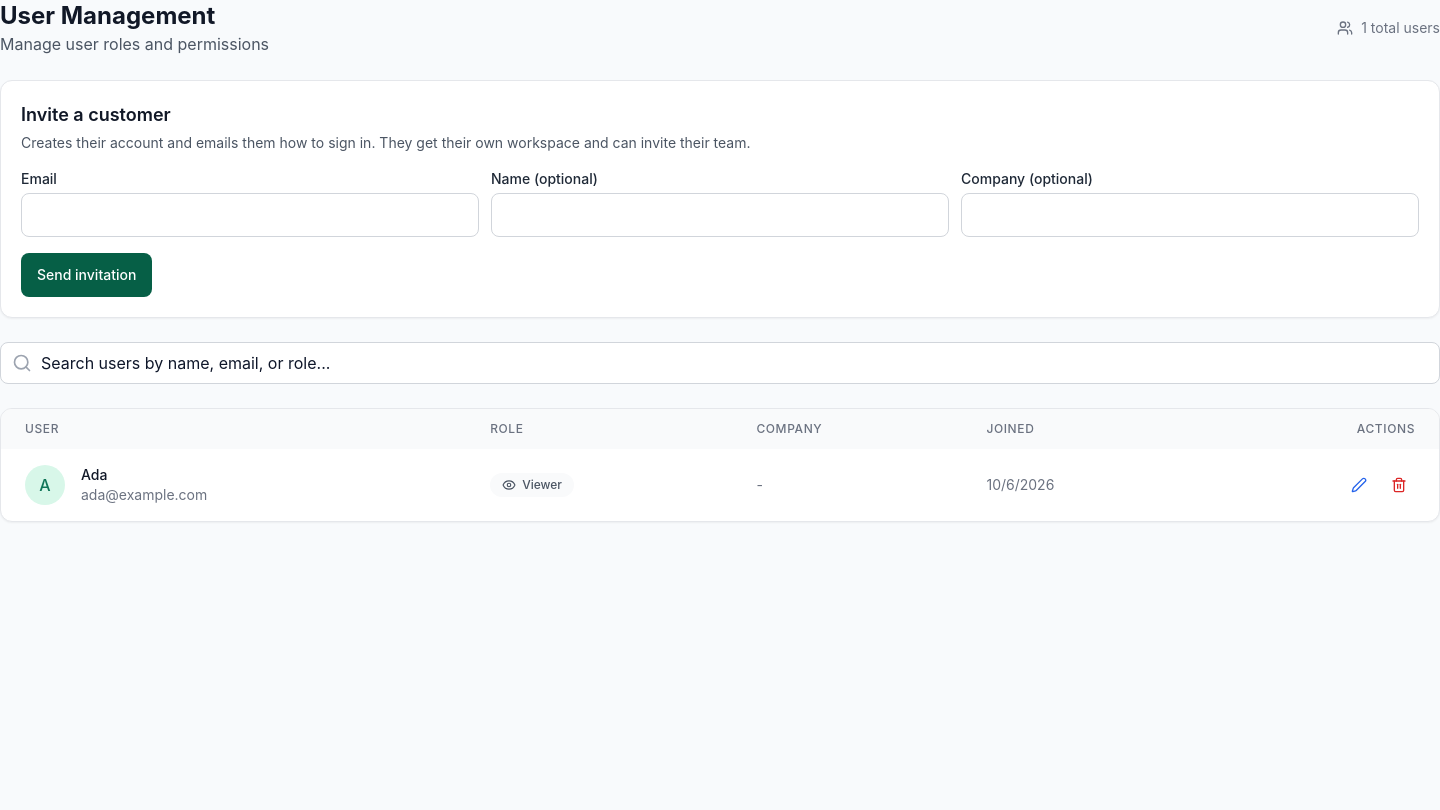
admin user management delete confirmation › keeps the dialog open when the delete fails
Click the button named "Delete user".
click(1399, 485)  # box [1383,469,1415,501]
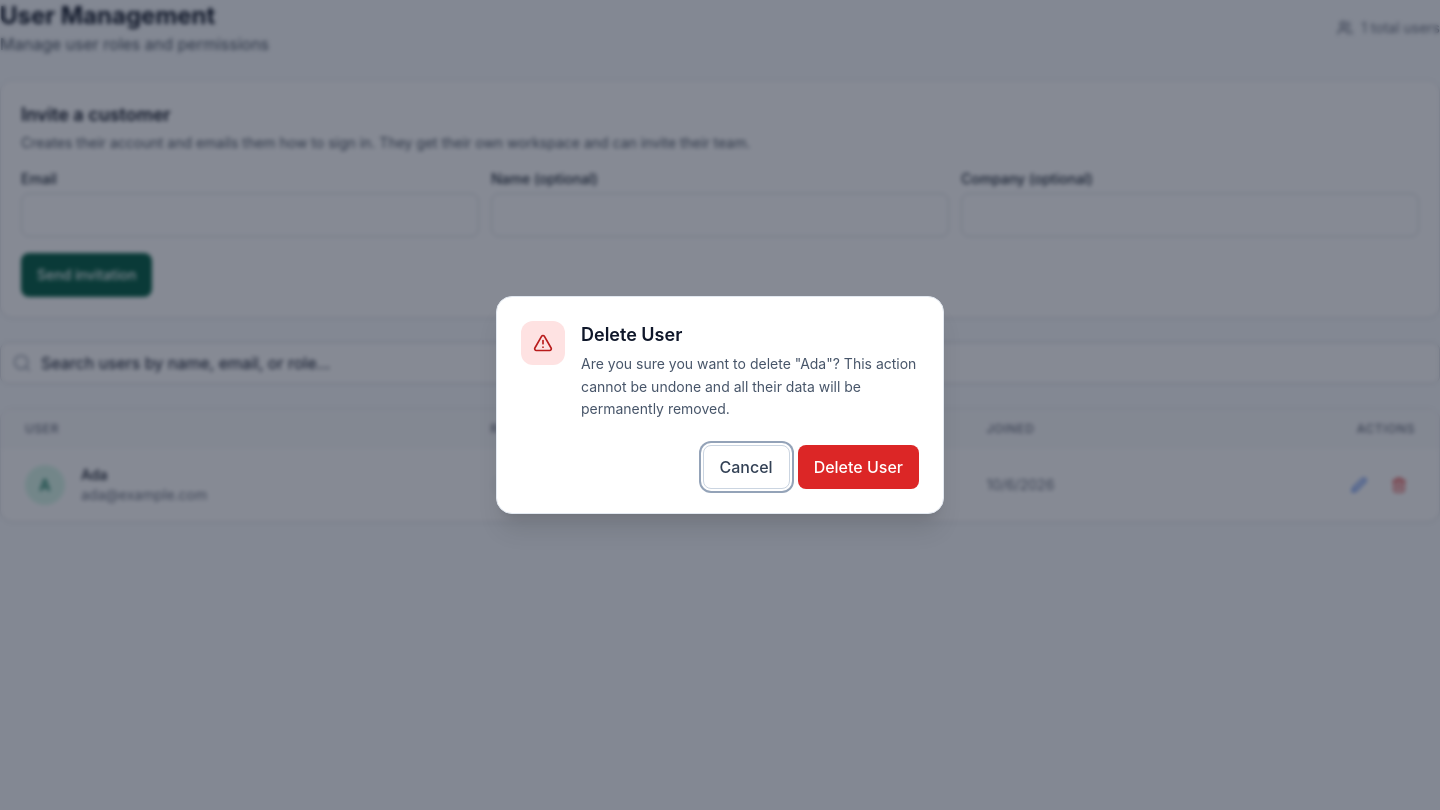
Expected: the dialog "Delete User" is shown, [496,296,944,514]
Click the button "Delete User".
click(858, 467)  # box [798,445,919,489]
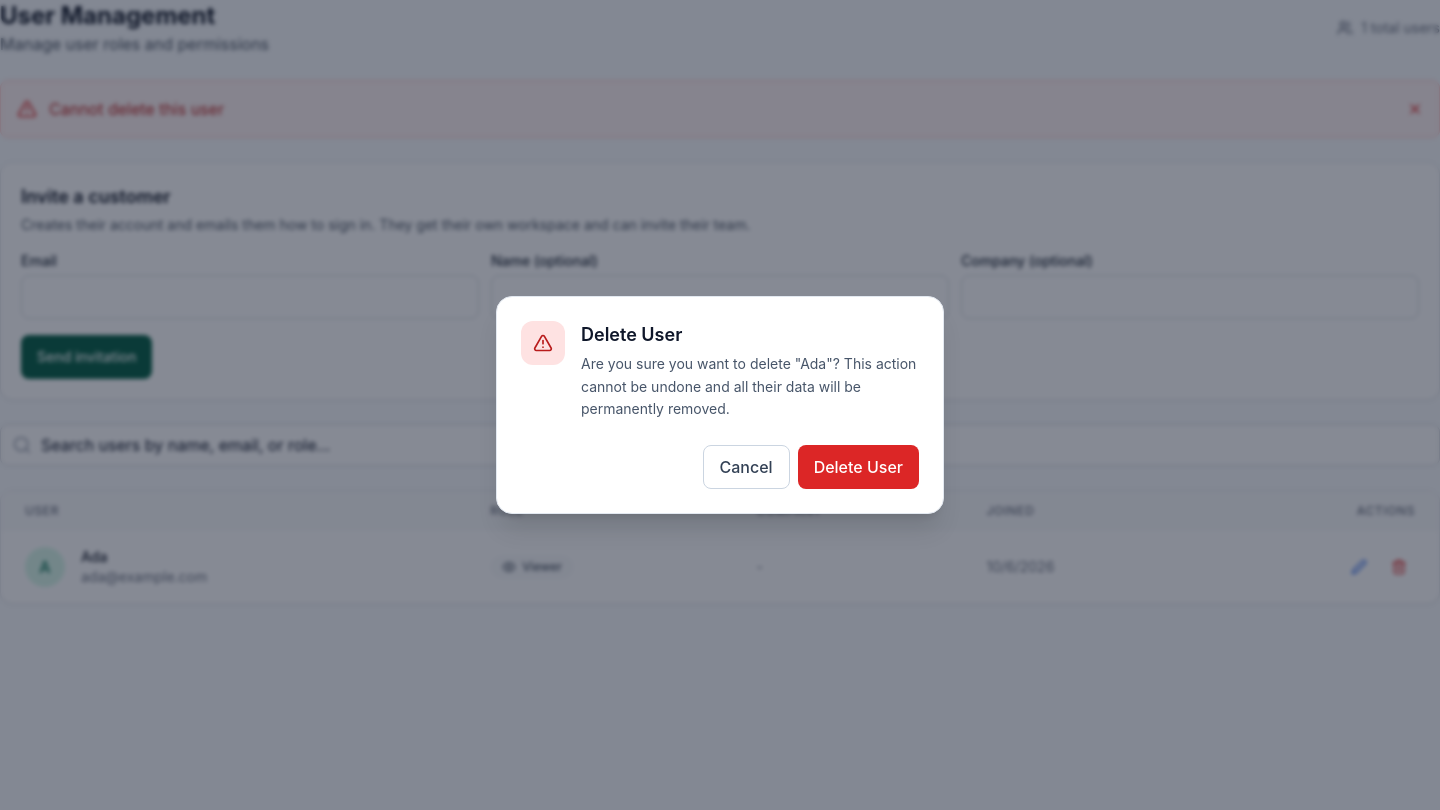
Expected: the button "Cancel" is enabled, [702,445,790,489]
Expected: the dialog "Delete User" is shown, [496,296,944,514]
Expected: the text "Cannot delete this user" is shown, [49,97,224,121]
